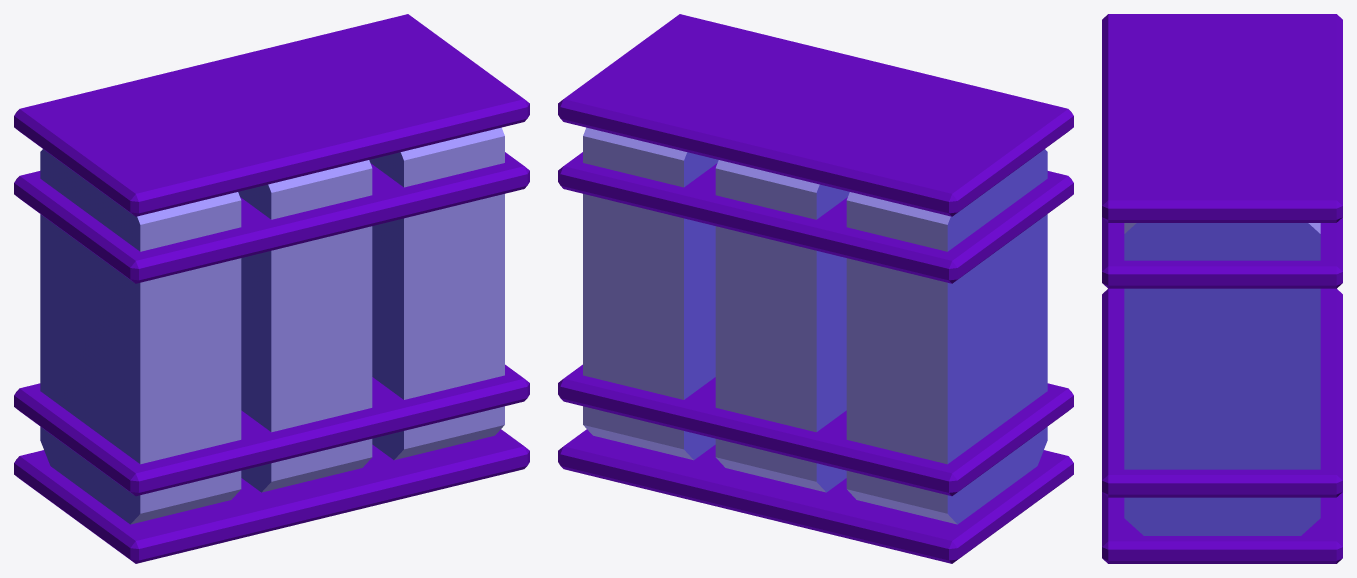
The model's file is Building_048.fbx.
3 renders of one model, left to right at view 1: azimuth 30°, elevation 25°; view 2: azimuth 150°, elevation 25°; view 3: azimuth 270°, elevation 25°, orthographic.
Parts seen in each view (by area): view 1: Building_048; view 2: Building_048; view 3: Building_048.
Part boxes in pixels (x1,y1,x2,y2): Building_048: (14, 14, 529, 563); Building_048: (558, 14, 1073, 563); Building_048: (1102, 14, 1342, 563).
Bounding box in the file's own units: 8.21 × 7.27 × 4.36.
